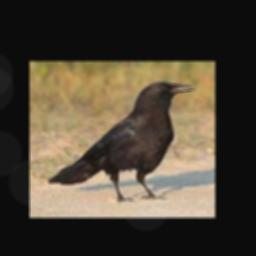Crow: (48, 81, 195, 201)
